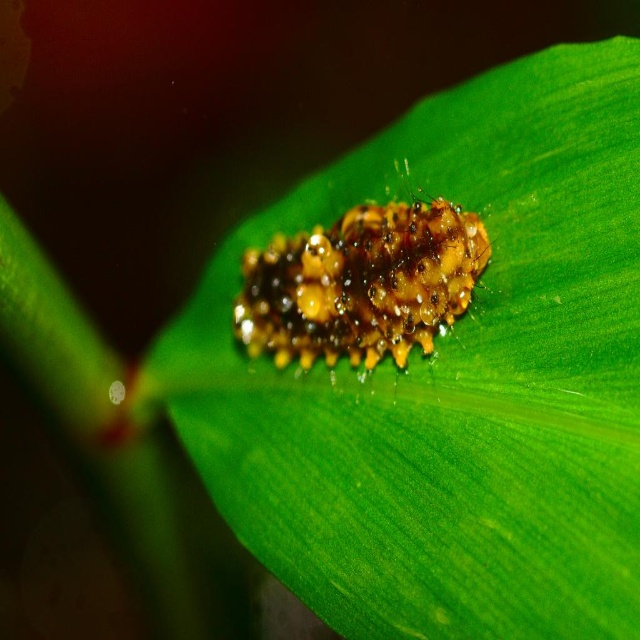Caterpillar: (229, 157, 501, 403)
